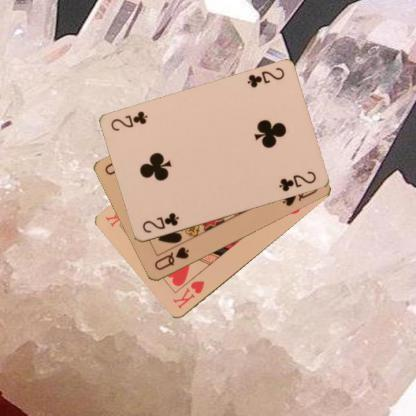2c: (244, 65, 286, 90), (140, 210, 180, 235)
Kh: (170, 278, 206, 311)
Qs: (151, 245, 190, 272)
